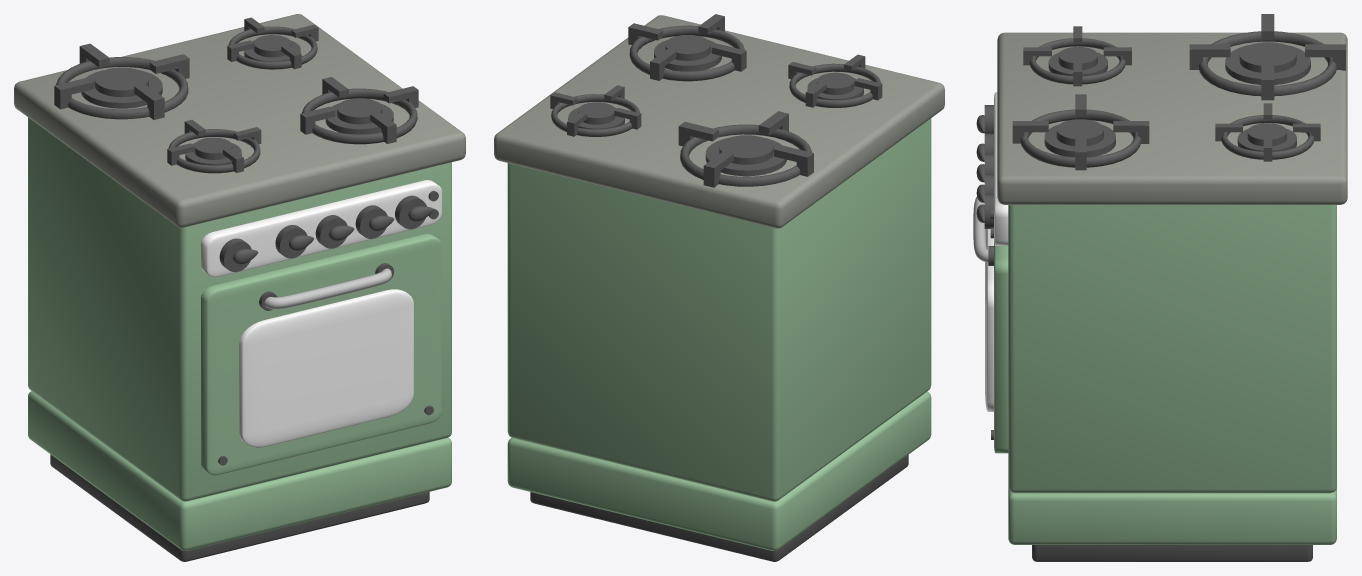
File: Stove.fbx
3 renders of one model, left to right at view 1: azimuth 30°, elevation 25°; view 2: azimuth 150°, elevation 25°; view 3: azimuth 270°, elevation 25°, orthographic. The views are drawn at different scales.
Visible parts, largest first — view 1: Cube, Cube.003, Cube.004, Cube.006, Cube.001, Cube.005, Cube.002, Circle.006, Circle.003, Circle.004, Circle, NurbsPath (+13 smaller); view 2: Cube, Cube.003, Cube.001, Cube.002, Circle.006, Circle.003, Circle.004, Circle, Circle.007, Circle.005, Circle.001, Circle.002 (+4 smaller); view 3: Cube, Cube.003, Cube.001, Cube.002, Cube.004, Circle.003, Circle.006, Circle.004, Circle, Circle.007, Cube.006, Circle.005 (+9 smaller).
Boxes of the visible parts, x1,y1,x2,y2 form: Cube: (28, 117, 451, 501); Cube.003: (14, 14, 465, 227); Cube.004: (201, 233, 441, 475); Cube.006: (239, 289, 413, 447); Cube.001: (28, 391, 451, 550); Cube.005: (201, 180, 441, 277); Cube.002: (50, 454, 429, 561); Circle.006: (56, 57, 188, 119); Circle.003: (81, 67, 162, 108); Circle.004: (302, 88, 417, 144); Circle: (325, 98, 393, 134); NurbsPath: (264, 268, 391, 309); Cube: (507, 118, 931, 501); Cube.003: (494, 15, 944, 228); Cube.001: (507, 391, 931, 550); Cube.002: (530, 455, 908, 561); Circle.006: (680, 124, 812, 186); Circle.003: (705, 135, 786, 176); Circle.004: (629, 25, 744, 81); Circle: (654, 35, 721, 71); Circle.007: (789, 63, 880, 107); Circle.005: (551, 94, 639, 136); Circle.001: (807, 72, 863, 99); Circle.002: (568, 102, 624, 129); Cube: (1008, 205, 1336, 493); Cube.003: (997, 32, 1347, 204); Cube.001: (1008, 487, 1336, 544); Cube.002: (1032, 545, 1312, 561); Cube.004: (994, 241, 1008, 453); Circle.003: (1225, 42, 1310, 84); Circle.006: (1198, 31, 1336, 96); Circle.004: (1020, 109, 1141, 167); Circle: (1044, 119, 1115, 157); Circle.007: (1029, 38, 1125, 84); Cube.006: (985, 229, 993, 411); Circle.005: (1221, 115, 1314, 159).
Bounding box in the file's own units: 423 × 555 × 452.
